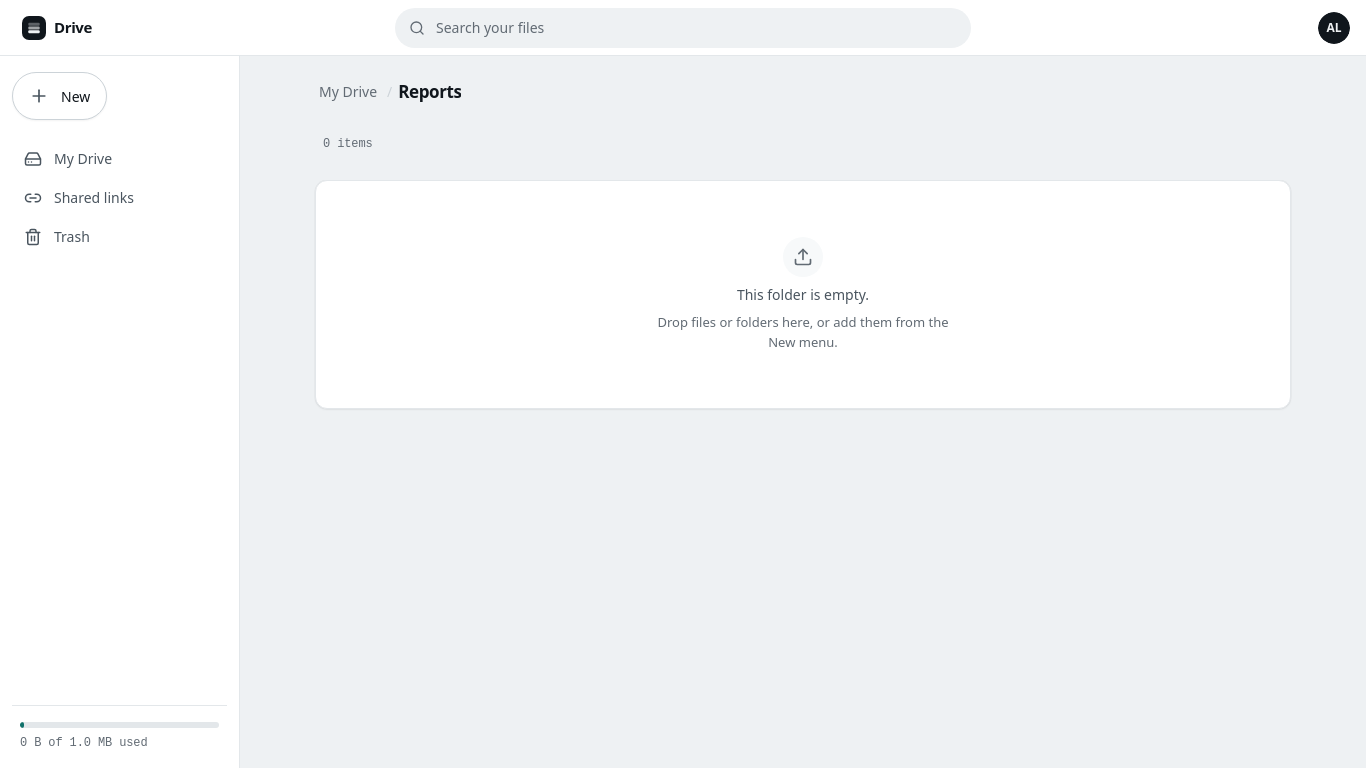
it: the New menu and the upload seam › creates a folder in the folder on screen, and re-reads it
The width and height of the screenshot is (1366, 768).
Check: the text "This folder is empty." is shown, box x1=737 y1=285 x2=869 y2=305
Click the button "New". click: (60,96)
box: x1=12 y1=72 x2=107 y2=120
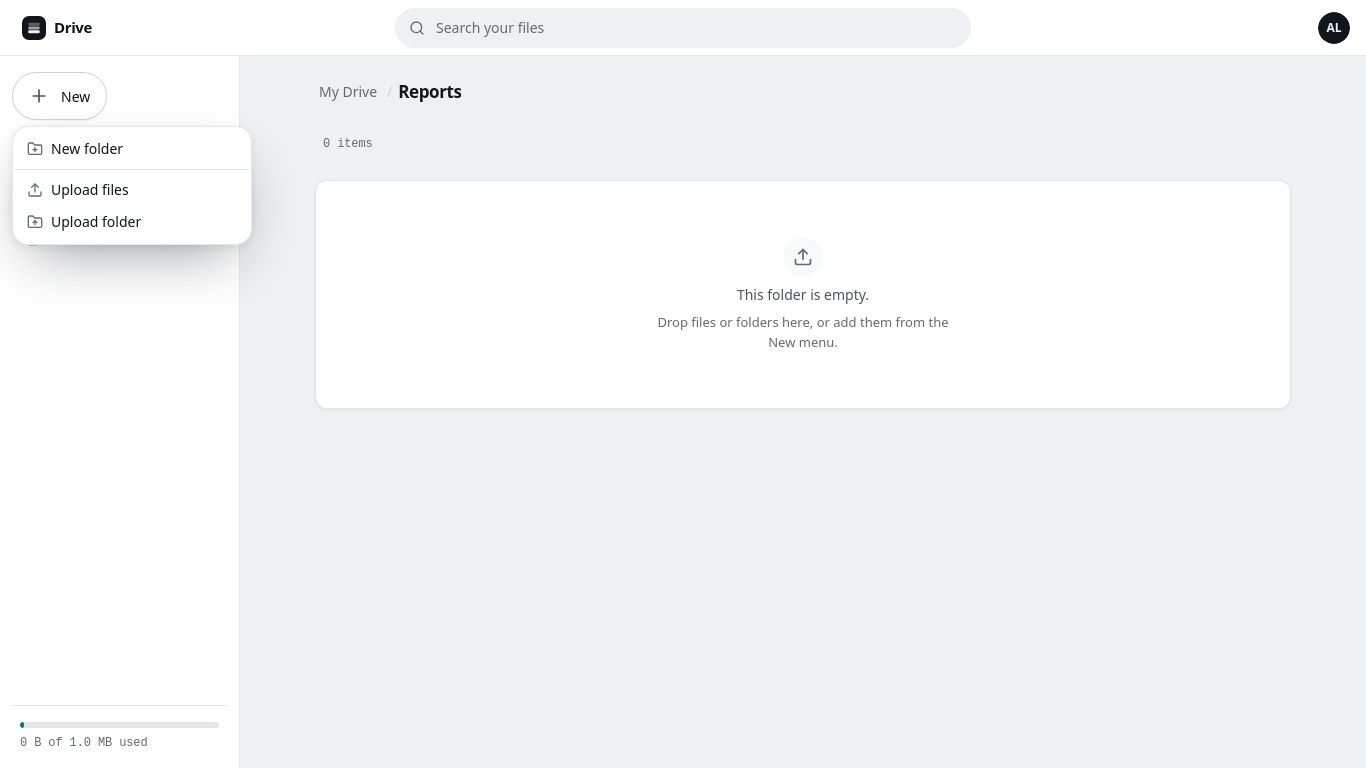
Click the menu item "New folder". click: (75,148)
box: x1=27 y1=139 x2=123 y2=158
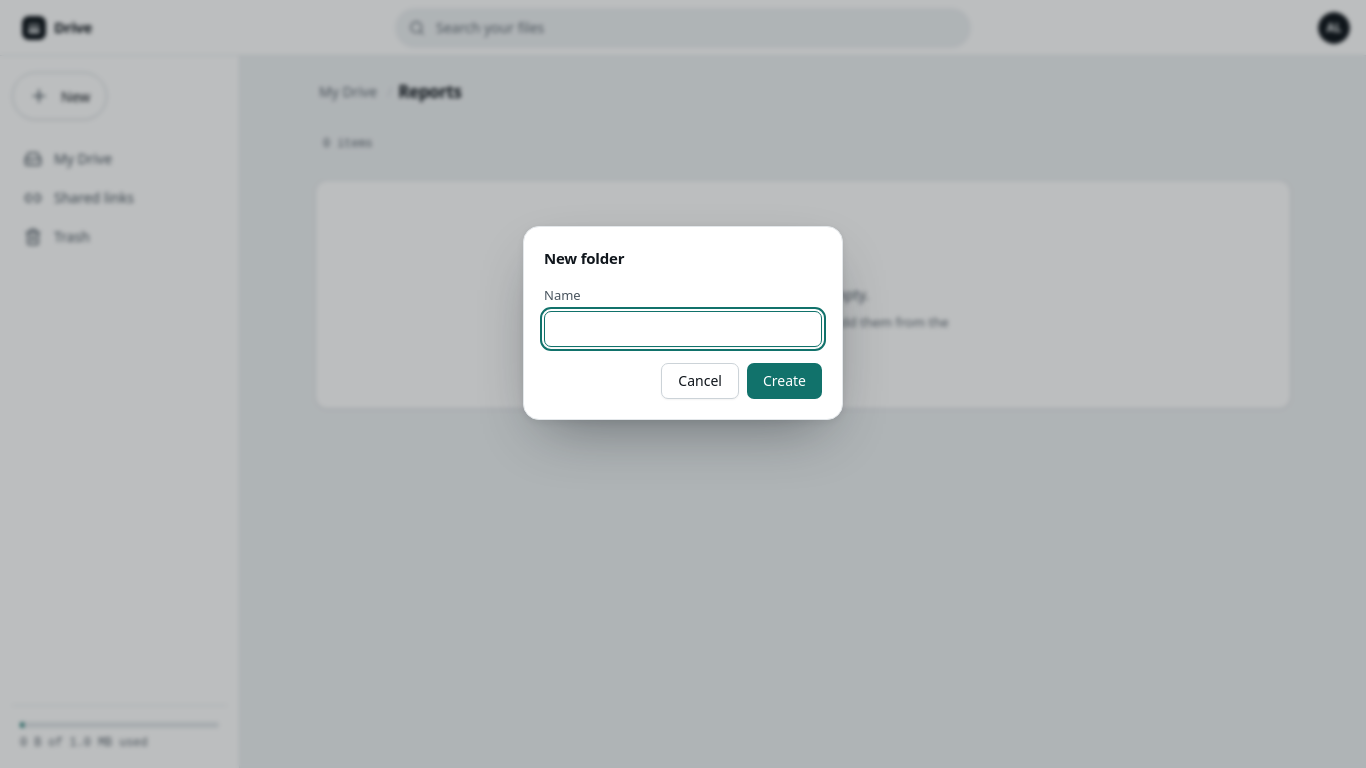
Type "Invoices" into the field labelled "Name". click: (683,328)
box: x1=544 y1=310 x2=822 y2=346
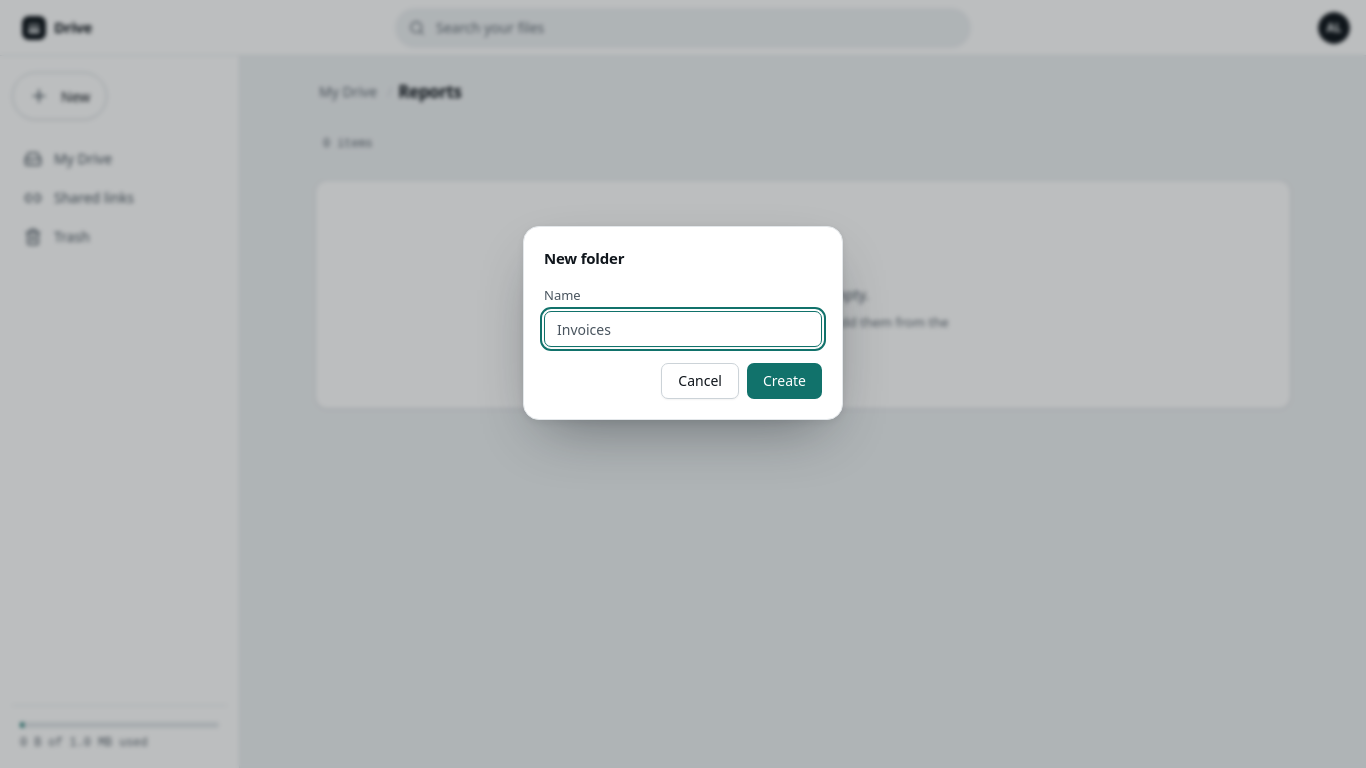
Click the button "Create". click: (784,380)
box: x1=747 y1=362 x2=822 y2=398
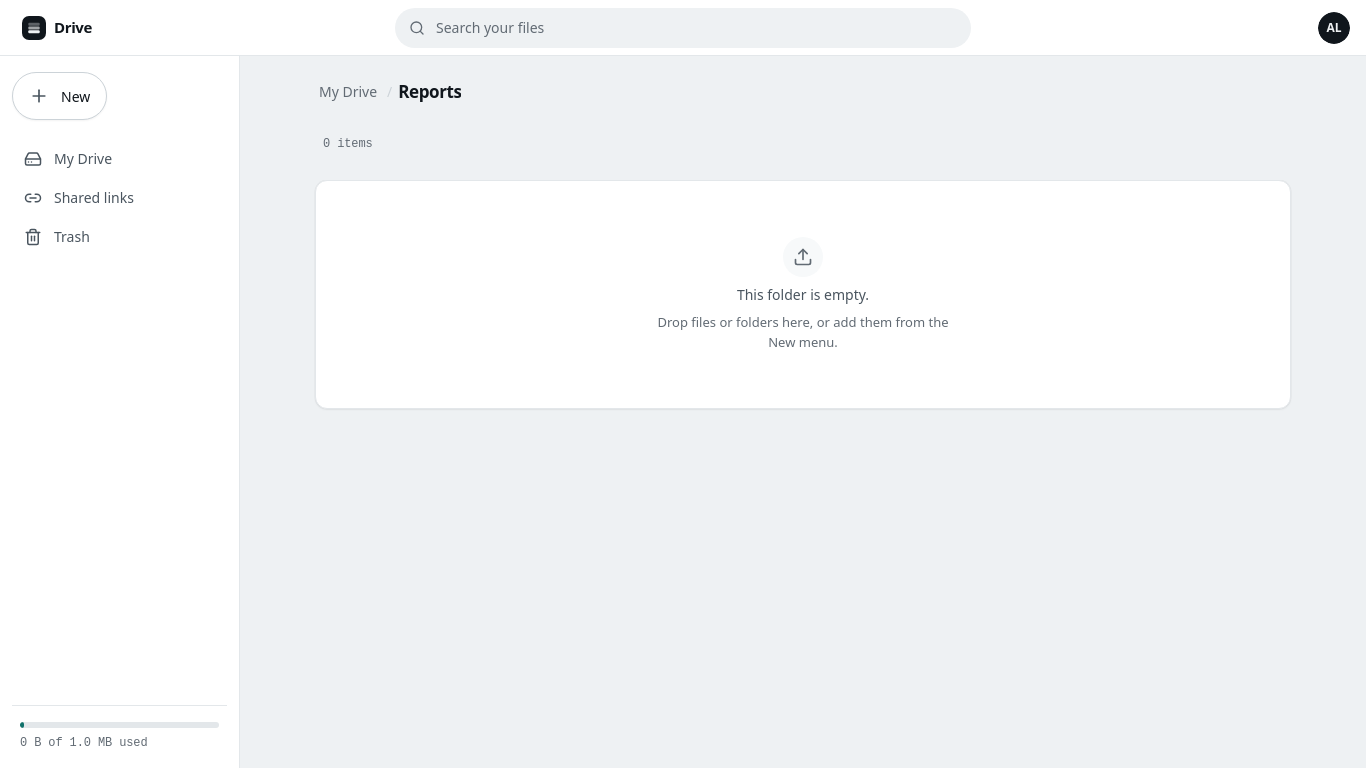
Check: the dialog is gone
